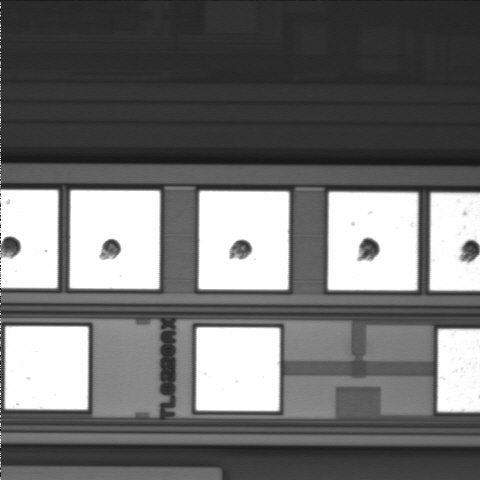pad: (70, 190, 160, 289), (199, 191, 289, 290), (328, 192, 418, 290), (196, 327, 280, 411), (5, 326, 88, 409)
